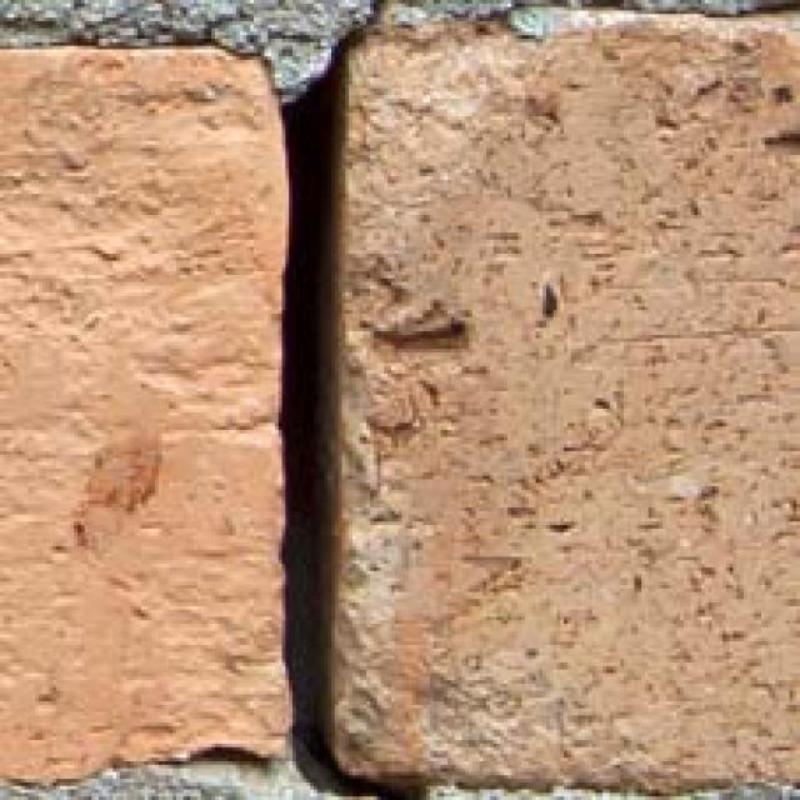pothole: (281, 33, 423, 800), (191, 745, 261, 762)
